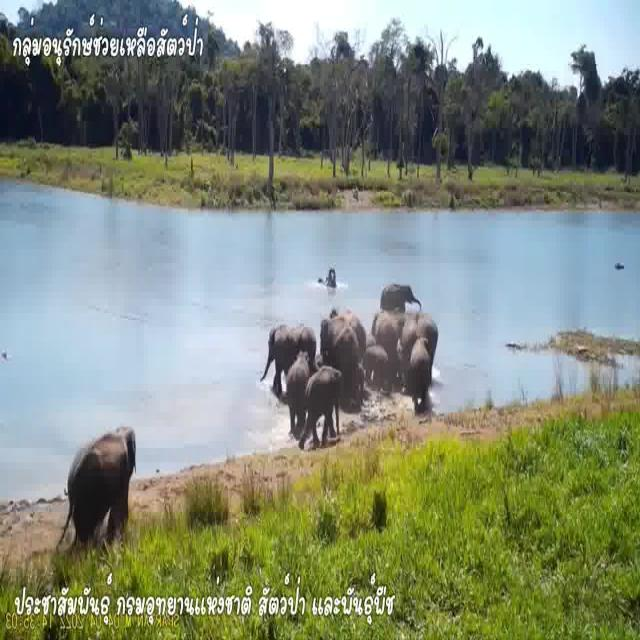Elephant: (70, 419, 139, 527), (308, 364, 342, 434), (402, 297, 442, 354), (407, 335, 436, 405), (318, 308, 358, 358), (288, 350, 314, 420), (266, 320, 296, 380), (363, 339, 388, 390), (370, 308, 398, 350)
